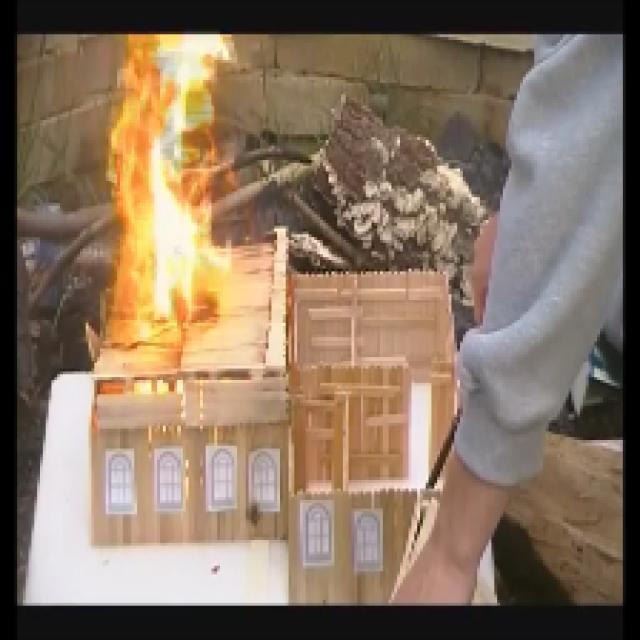Fire: (105, 34, 228, 341)
